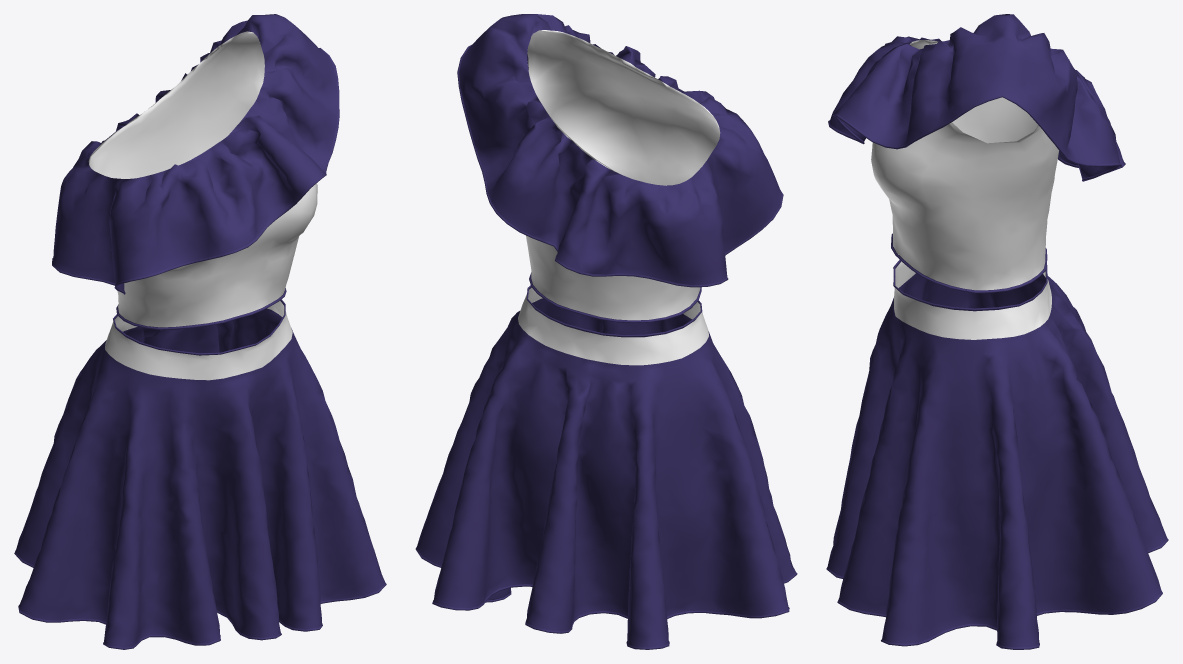
File: input-transformed.glb
3 views of the same model, side by side, from view 1: azimuth 30°, elevation 25°; view 2: azimuth 150°, elevation 25°; view 3: azimuth 270°, elevation 25° (orthographic). The views are drawn at different scales.
Parts seen in each view (by area): view 1: Object_3, Object_2; view 2: Object_3, Object_2; view 3: Object_3, Object_2.
Boxes of the visible parts, x1,y1,x2,y2 form: Object_3: (14,14,386,649); Object_2: (88,31,317,380); Object_3: (415,14,797,649); Object_2: (518,30,720,365); Object_3: (826,14,1168,649); Object_2: (871,40,1058,339).
Bounding box in the file's own units: 54.08 × 82.7 × 42.41.
